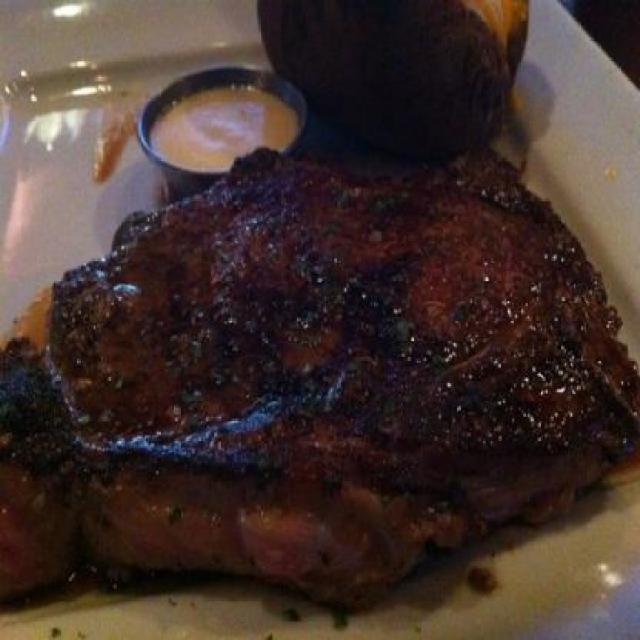Steak: (52, 149, 624, 505)
